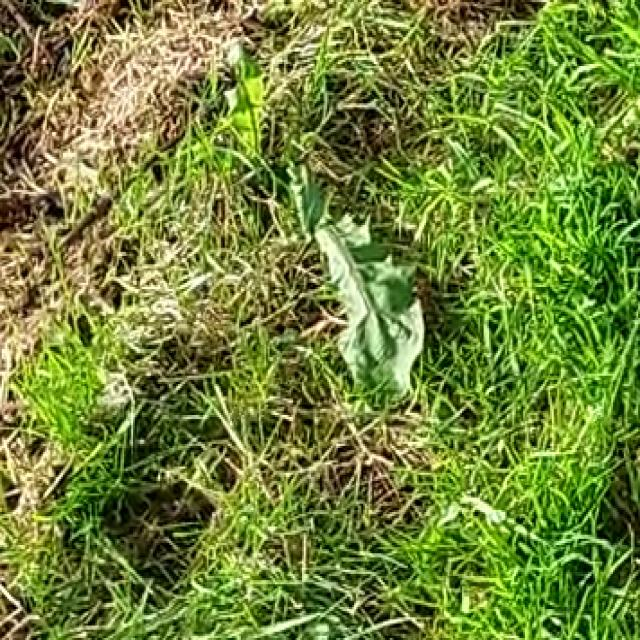organic waste: (169, 56, 484, 425)
